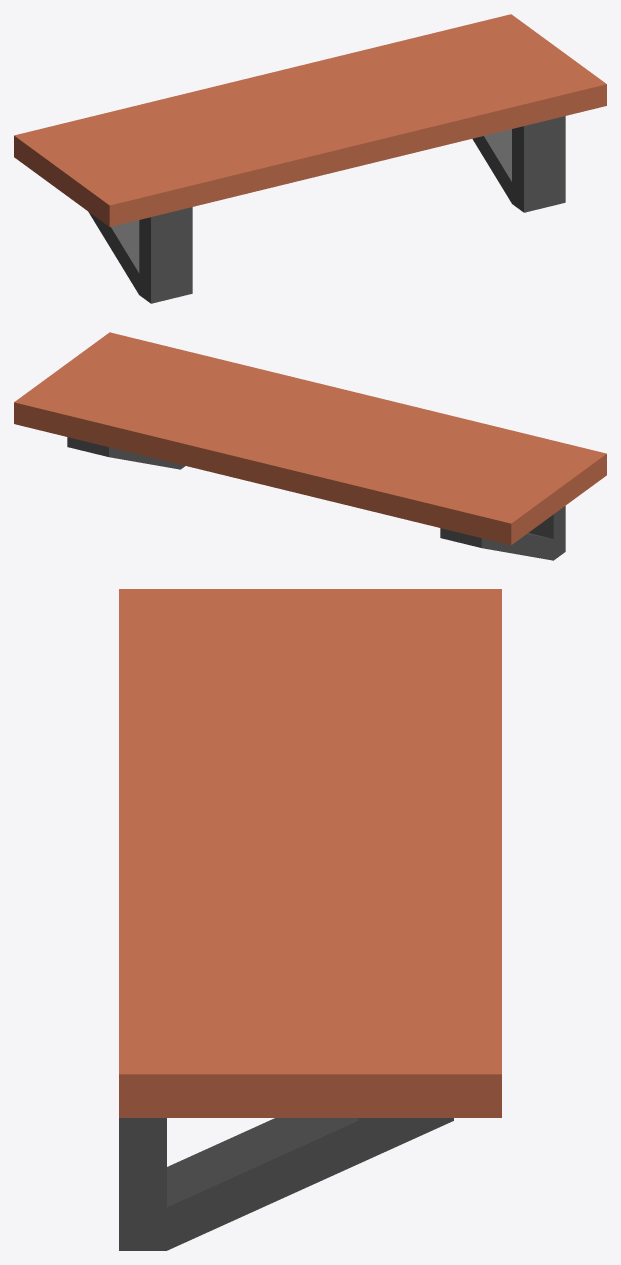
The model's file is EstantePared.fbx.
3 renders of one model, top to bottom at view 1: azimuth 30°, elevation 25°; view 2: azimuth 150°, elevation 25°; view 3: azimuth 270°, elevation 25°, orthographic. The views are drawn at different scales.
Parts seen in each view (by area): view 1: Cubo; view 2: Cubo; view 3: Cubo.
Part boxes in pixels (left/top/right/bottom): Cubo: left=14, top=14, right=606, bottom=303; Cubo: left=14, top=332, right=606, bottom=560; Cubo: left=119, top=589, right=501, bottom=1250.
Size of the model in its own units: 1200 by 250 by 400.
